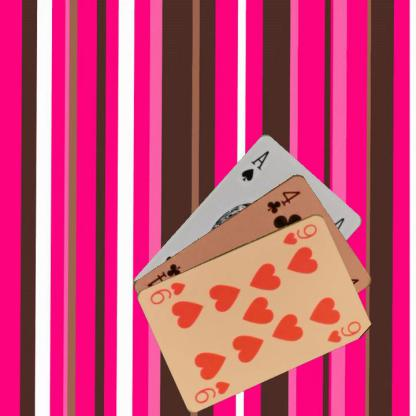4c: (264, 188, 302, 215)
9h: (192, 378, 232, 404), (280, 221, 319, 246)
As: (238, 147, 270, 182)
